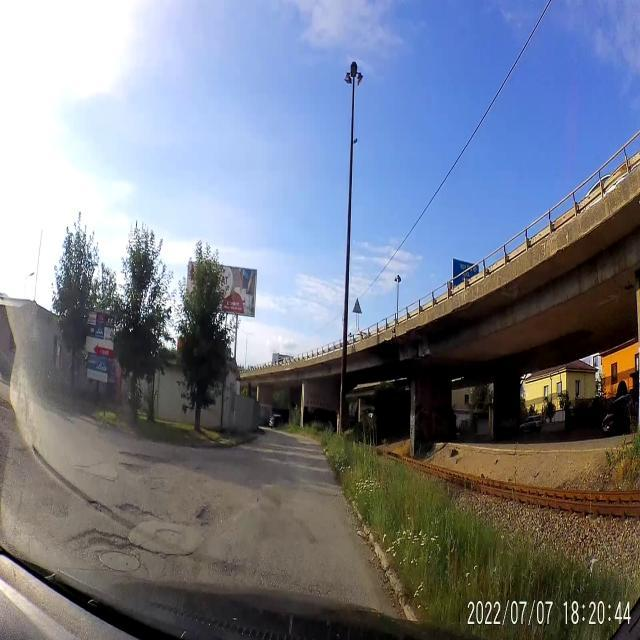Manhole: (95, 543, 144, 573)
Pothole: (147, 536, 196, 577), (68, 528, 135, 548), (116, 492, 152, 528), (110, 445, 173, 462), (114, 458, 156, 482), (84, 494, 112, 522), (193, 503, 218, 533)
